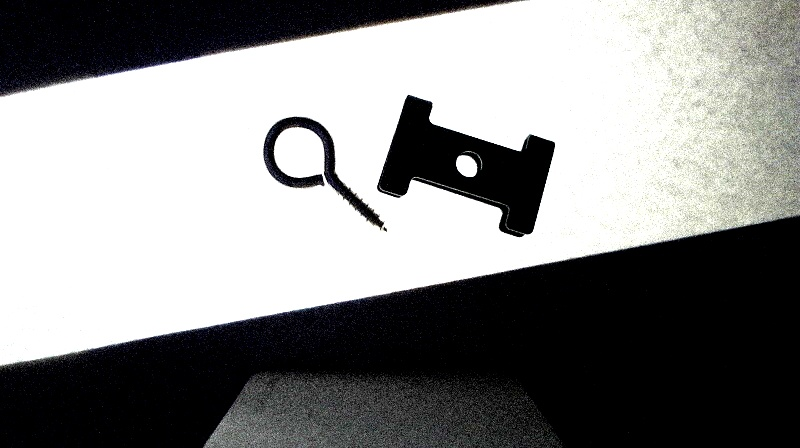O001: (261, 114, 392, 233)
O002: (377, 93, 556, 239)
